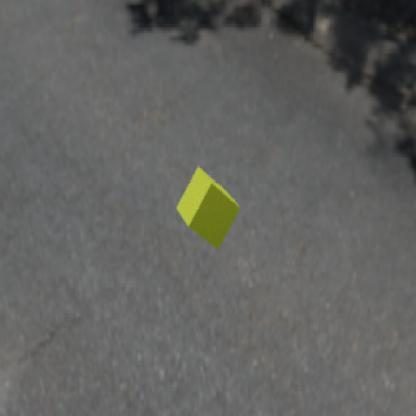cube: (176, 166, 240, 250)
